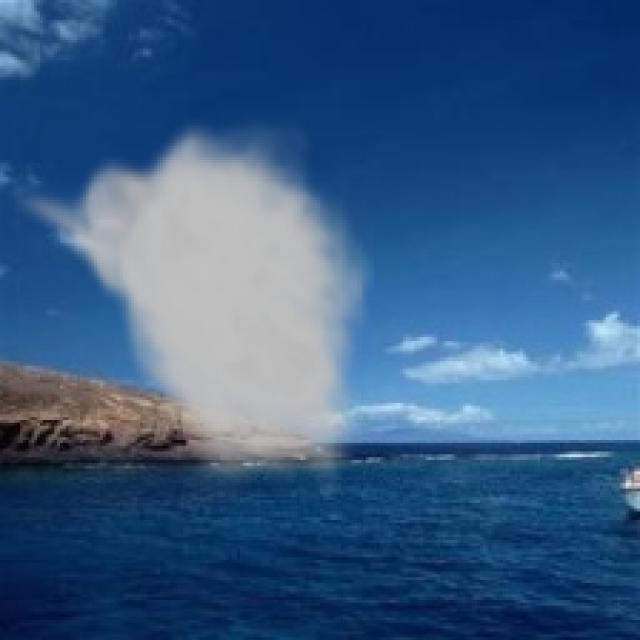Smoke: (8, 114, 374, 500)
